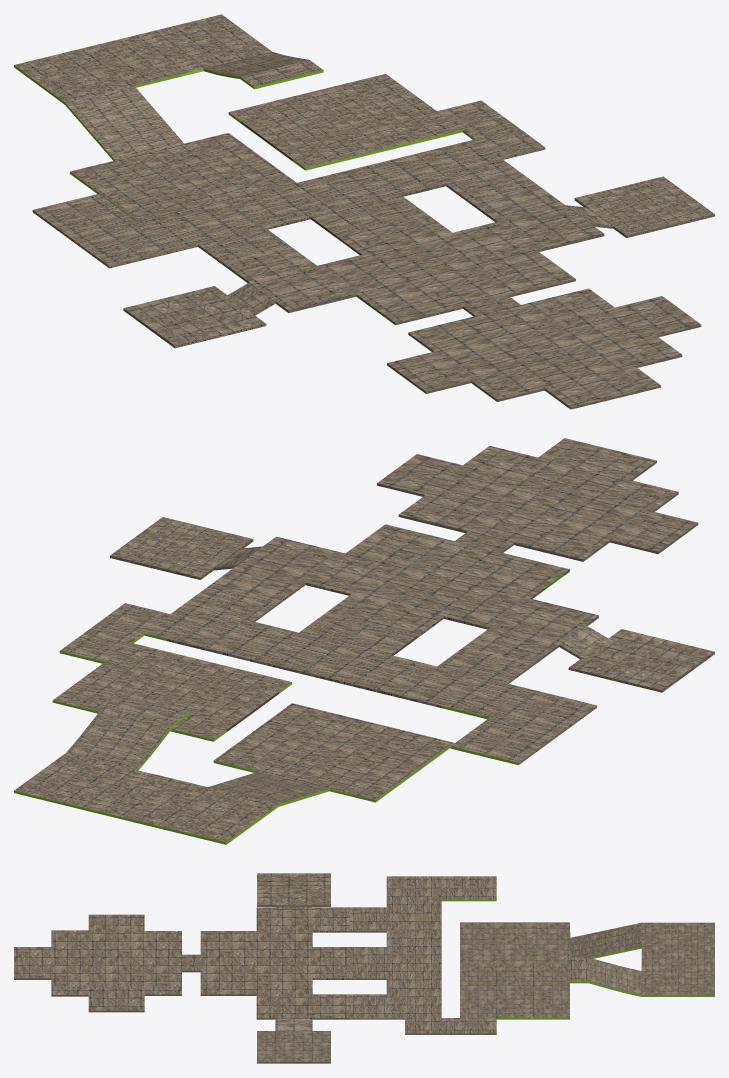
File: Lvl2Floor.fbx
3 views of the same model, one above another, from view 1: azimuth 30°, elevation 25°; view 2: azimuth 150°, elevation 25°; view 3: azimuth 270°, elevation 25° (orthographic). The views are drawn at different scales.
Visible parts, largest first — view 1: Cube.004; view 2: Cube.004; view 3: Cube.004.
Boxes of the visible parts, x1=… form: Cube.004: x1=14, y1=14, x2=714, y2=409; Cube.004: x1=14, y1=438, x2=714, y2=844; Cube.004: x1=14, y1=873, x2=714, y2=1063.
Size of the model in its own units: 19503 by 1474 by 30582.
